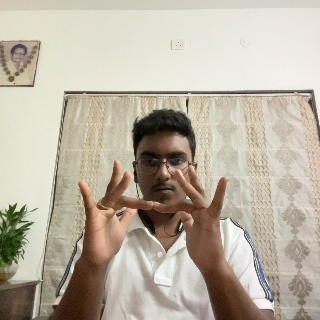Internet: (79, 161, 231, 279)
